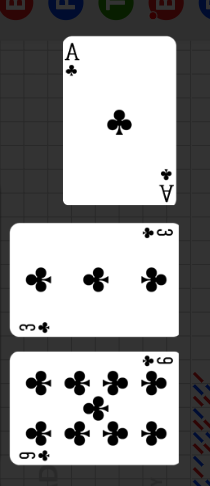3C: (140, 226, 175, 241)
9C: (140, 354, 175, 369)
AC: (65, 41, 82, 79)
